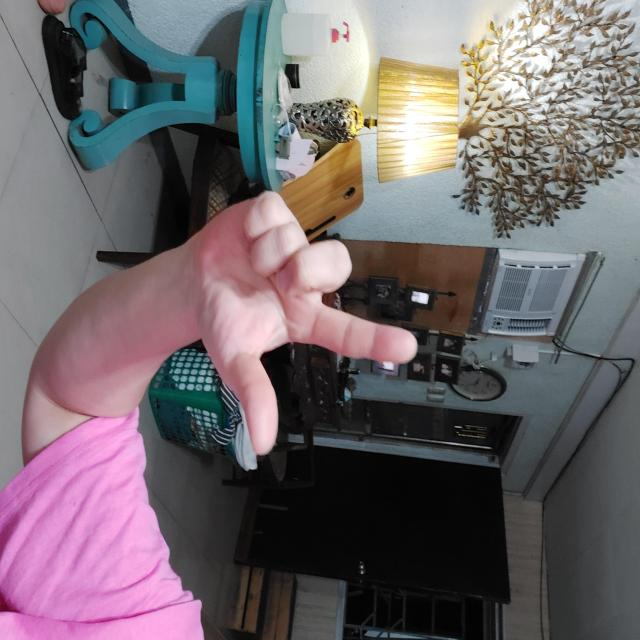L: (192, 222, 455, 443)
